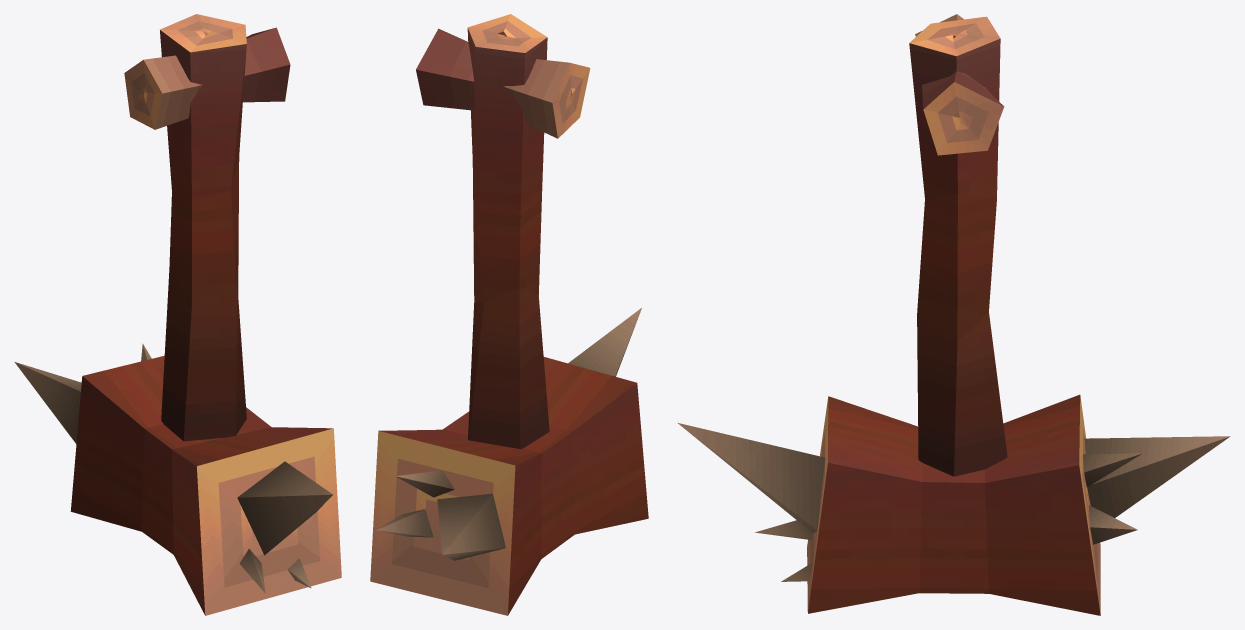
File: Wood_Swing.FBX
3 views of the same model, side by side, from view 1: azimuth 30°, elevation 25°; view 2: azimuth 150°, elevation 25°; view 3: azimuth 270°, elevation 25° (orthographic). The views are drawn at different scales.
Parts seen in each view (by area): view 1: Wood_Swing; view 2: Wood_Swing; view 3: Wood_Swing.
Boxes of the visible parts, bbox=[...] form: Wood_Swing: bbox=[14, 14, 341, 615]; Wood_Swing: bbox=[370, 14, 648, 615]; Wood_Swing: bbox=[678, 14, 1230, 615].
Bounding box in the file's own units: 0.182 × 0.5765 × 0.6337.
